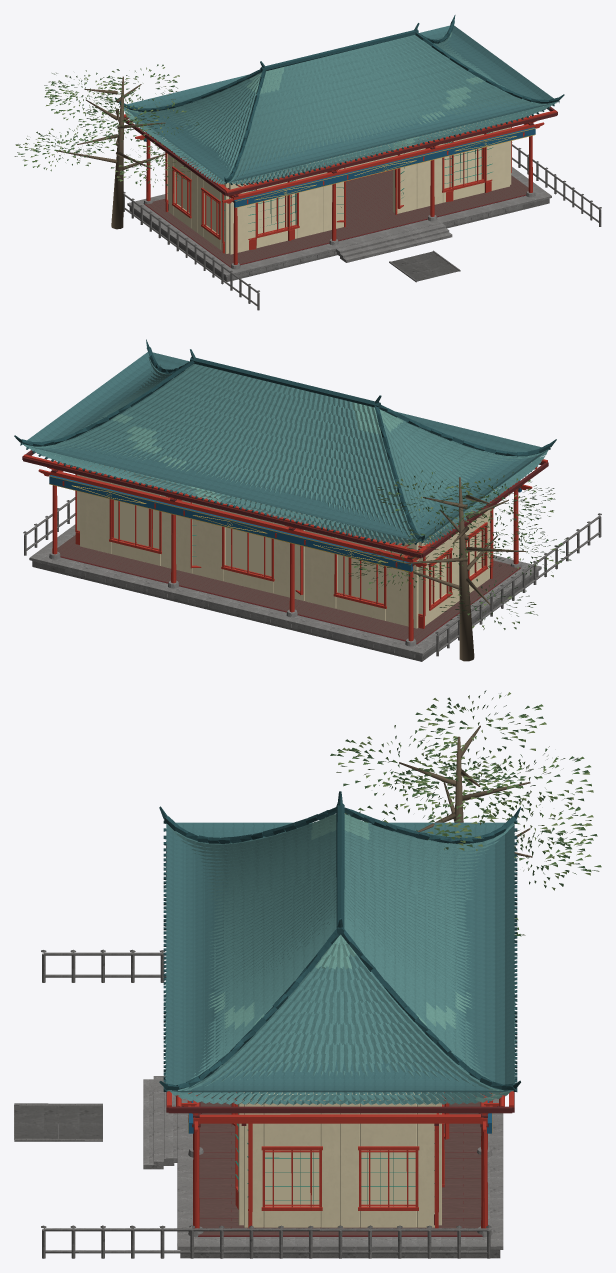
File: reference-public_models_places-low_tubishanzhuang.glb
The picture shows the model from 3 angles, top to bottom: view 1: azimuth 30°, elevation 25°; view 2: azimuth 150°, elevation 25°; view 3: azimuth 270°, elevation 25°; orthographic projection. The views are drawn at different scales.
Parts seen in each view (by area): view 1: r15_tubishanzhuang_tile, r15_tubishanzhuang_roof, r15_tubishanzhuang_plaster.001, r15_tubishanzhuang_wood, r15_tubishanzhuang_cutstone, Mobile_tubishanzhuang_floorwood, Mobile_tubishanzhuang_plants, r15_tubishanzhuang_stone, r15_tubishanzhuang_tiledark, r15_tubishanzhuang_screen, r15_tubishanzhuang_darkwood, r15_tubishanzhuang_qing_azurite (+4 smaller); view 2: r15_tubishanzhuang_tile, r15_tubishanzhuang_roof, r15_tubishanzhuang_plaster.001, r15_tubishanzhuang_wood, r15_tubishanzhuang_cutstone, Mobile_tubishanzhuang_plants, Mobile_tubishanzhuang_floorwood, r15_tubishanzhuang_tiledark, r15_tubishanzhuang_stone, r15_tubishanzhuang_screen.001, r15_tubishanzhuang_darkwood, r15_tubishanzhuang_qing_azurite (+3 smaller); view 3: r15_tubishanzhuang_tile, r15_tubishanzhuang_roof, r15_tubishanzhuang_plaster.001, r15_tubishanzhuang_cutstone, Mobile_tubishanzhuang_floorwood, r15_tubishanzhuang_wood, Mobile_tubishanzhuang_plants, r15_tubishanzhuang_stone, r15_tubishanzhuang_tiledark, r15_tubishanzhuang_screen, r15_tubishanzhuang_darkwood, r15_tubishanzhuang_tilelight (+2 smaller).
Boxes of the visible parts, left/top/right/bottom form: r15_tubishanzhuang_tile: left=124, top=35, right=557, bottom=184; r15_tubishanzhuang_roof: left=124, top=25, right=558, bottom=182; r15_tubishanzhuang_plaster.001: left=168, top=120, right=511, bottom=254; r15_tubishanzhuang_wood: left=124, top=110, right=557, bottom=264; r15_tubishanzhuang_cutstone: left=127, top=167, right=551, bottom=278; Mobile_tubishanzhuang_floorwood: left=145, top=170, right=528, bottom=266; Mobile_tubishanzhuang_plants: left=14, top=64, right=198, bottom=229; r15_tubishanzhuang_stone: left=123, top=144, right=601, bottom=310; r15_tubishanzhuang_tiledark: left=115, top=15, right=564, bottom=185; r15_tubishanzhuang_screen: left=177, top=148, right=481, bottom=233; r15_tubishanzhuang_darkwood: left=124, top=106, right=557, bottom=267; r15_tubishanzhuang_qing_azurite: left=143, top=127, right=535, bottom=207; r15_tubishanzhuang_tile: left=23, top=355, right=548, bottom=543; r15_tubishanzhuang_roof: left=22, top=352, right=548, bottom=541; r15_tubishanzhuang_plaster.001: left=80, top=464, right=491, bottom=628; r15_tubishanzhuang_wood: left=23, top=454, right=547, bottom=641; r15_tubishanzhuang_cutstone: left=29, top=524, right=541, bottom=657; Mobile_tubishanzhuang_plants: left=348, top=470, right=572, bottom=661; Mobile_tubishanzhuang_floorwood: left=57, top=535, right=520, bottom=642; r15_tubishanzhuang_tiledark: left=14, top=339, right=556, bottom=545; r15_tubishanzhuang_stone: left=24, top=497, right=601, bottom=661; r15_tubishanzhuang_screen.001: left=77, top=474, right=422, bottom=614; r15_tubishanzhuang_darkwood: left=22, top=450, right=548, bottom=644; r15_tubishanzhuang_qing_azurite: left=49, top=475, right=521, bottom=571; r15_tubishanzhuang_tile: left=165, top=818, right=515, bottom=1105; r15_tubishanzhuang_roof: left=166, top=822, right=514, bottom=1092; r15_tubishanzhuang_plaster.001: left=238, top=1092, right=441, bottom=1227; r15_tubishanzhuang_cutstone: left=143, top=1075, right=503, bottom=1249; Mobile_tubishanzhuang_floorwood: left=198, top=1095, right=482, bottom=1235; r15_tubishanzhuang_wood: left=167, top=1091, right=513, bottom=1228; Mobile_tubishanzhuang_plants: left=330, top=690, right=601, bottom=936; r15_tubishanzhuang_stone: left=14, top=952, right=500, bottom=1258; r15_tubishanzhuang_tiledark: left=159, top=791, right=520, bottom=1091; r15_tubishanzhuang_screen: left=265, top=1150, right=415, bottom=1204; r15_tubishanzhuang_darkwood: left=166, top=845, right=514, bottom=1236; r15_tubishanzhuang_tilelight: left=165, top=814, right=514, bottom=1102.
Bounding box in the file's own units: 28.33 × 10.2 × 19.83.
17 materials, 13 textured.
